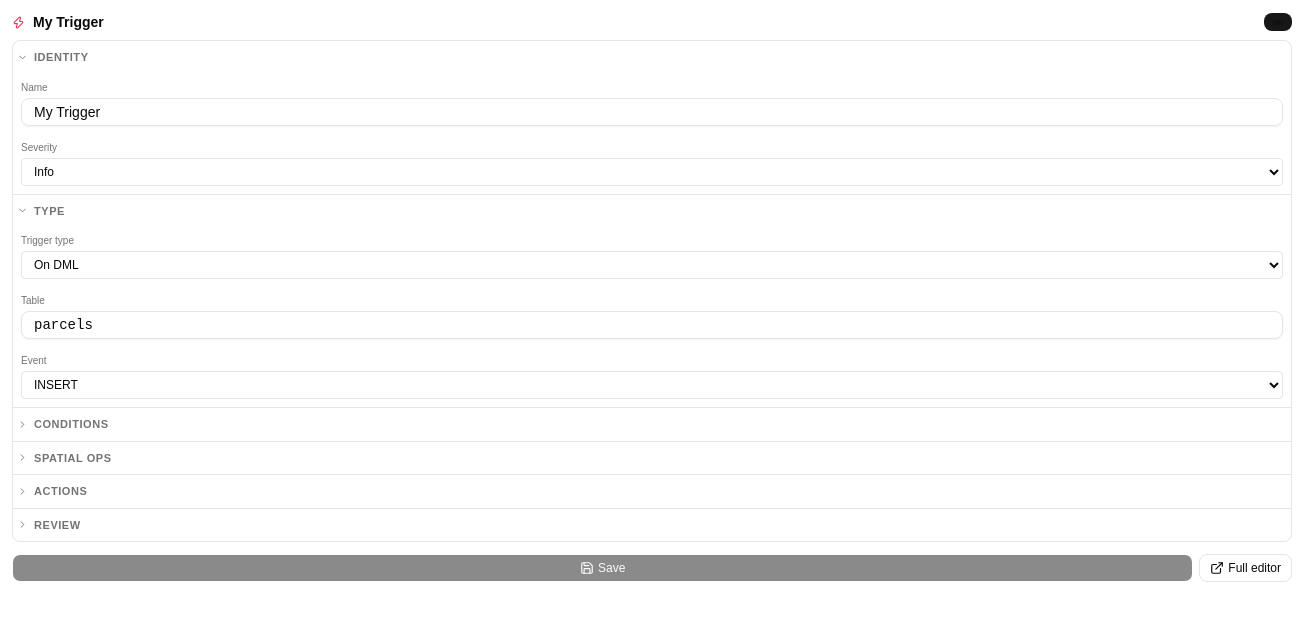
Test case: TriggerBuilderInline › Actions section shows 'No actions configured.' when empty
This screenshot has width=1304, height=624.
# The Actions panel is collapsed by default, expand it.
Click the button "Actions": (61,491) left=13, top=475, right=1291, bottom=508
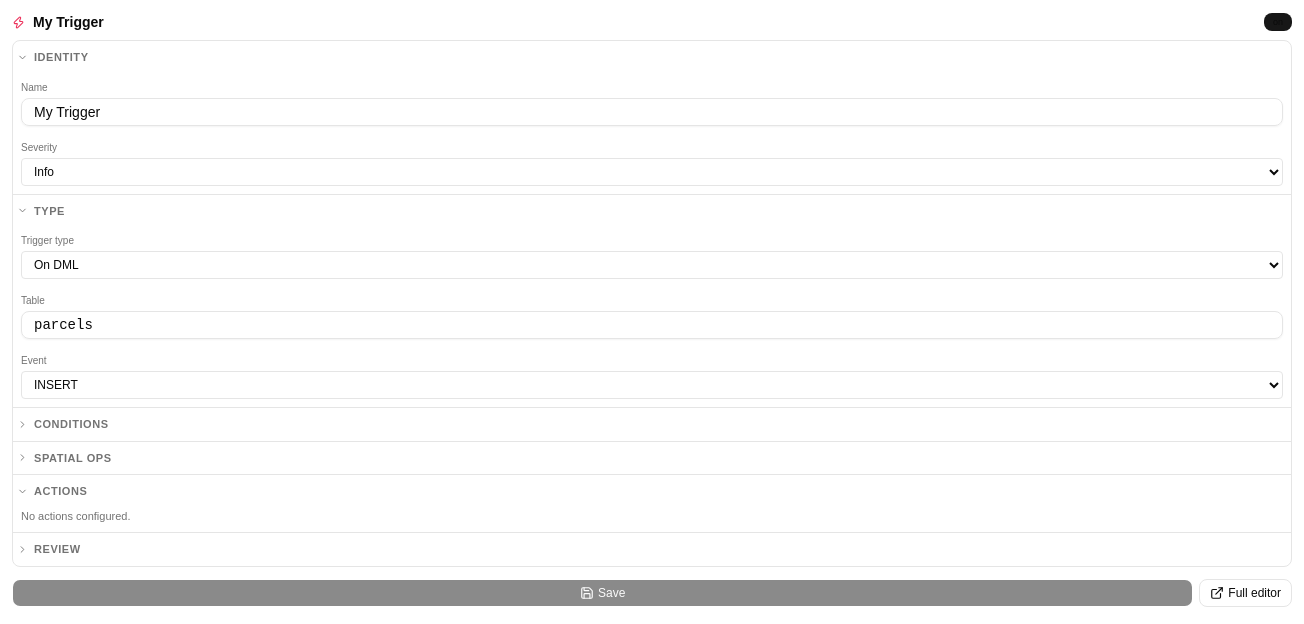
Check: the text "No actions configured." is shown, box left=21, top=510, right=130, bottom=522
